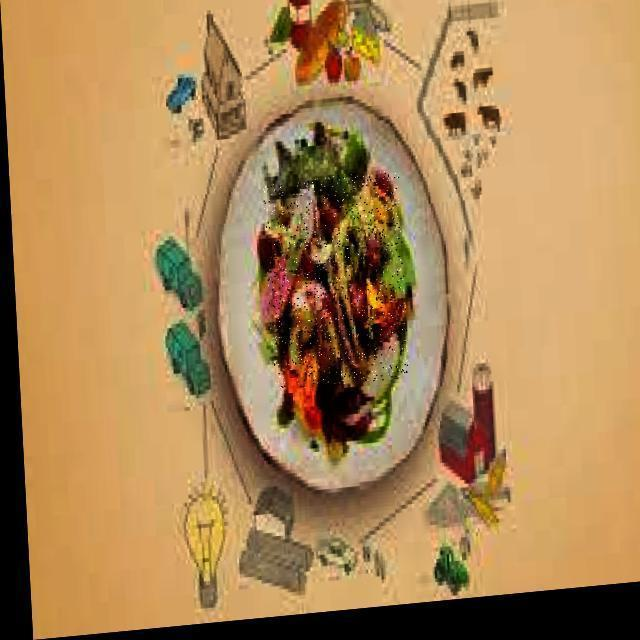bottles: (470, 359, 496, 472)
cardboard: (1, 0, 638, 637)
other-trash: (251, 119, 416, 463)
